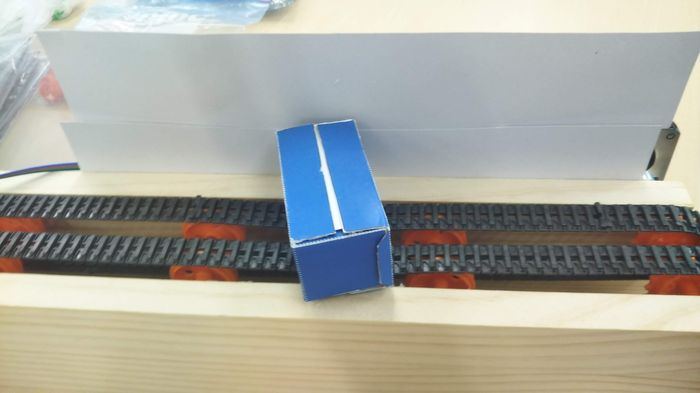box3: (271, 113, 394, 302)
